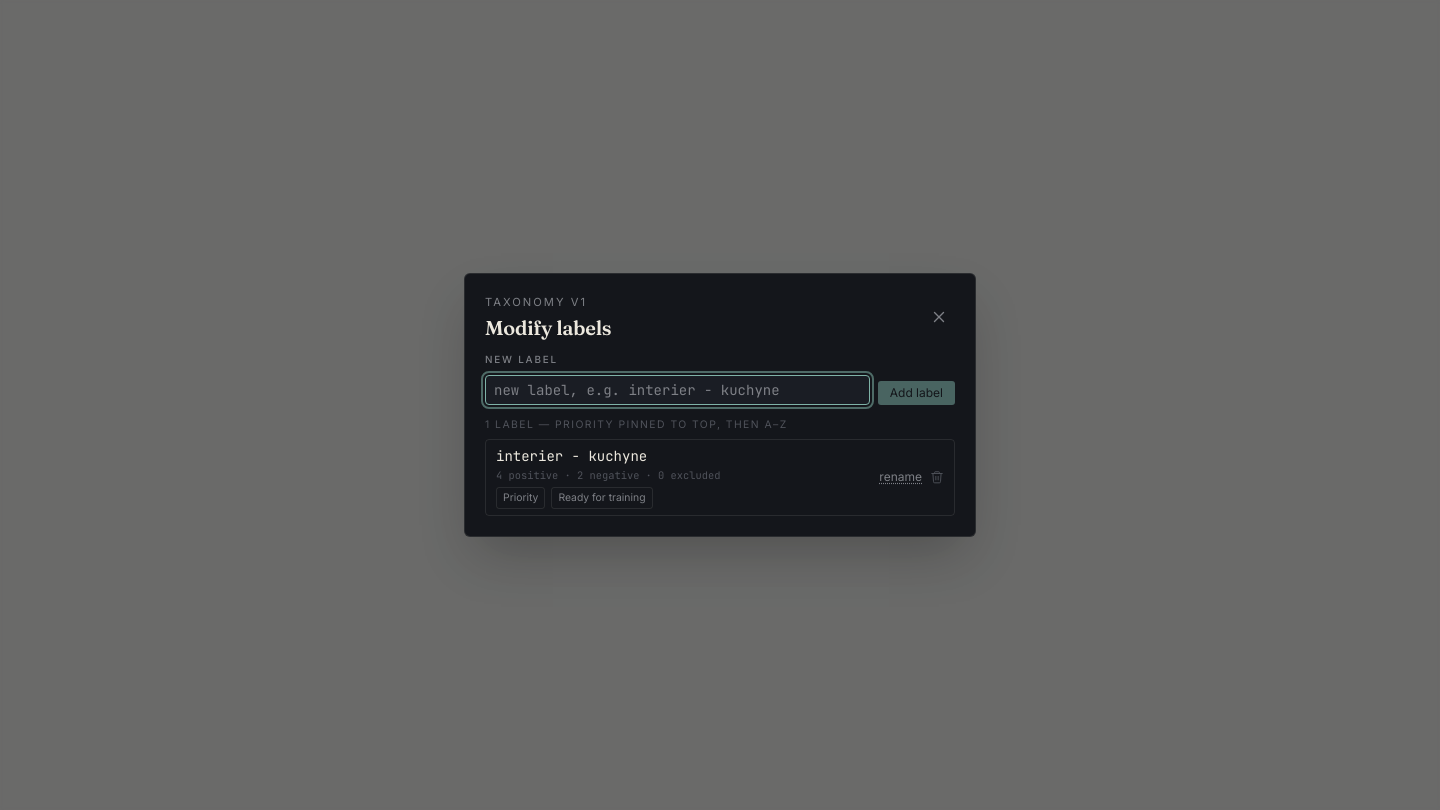
Test: <TaxonomyManageModal> › names the inline rename field, which replaces the row label it would be named by
The image size is (1440, 810).
Click the button "rename".
click(901, 477)  # box 879,469 -> 922,485
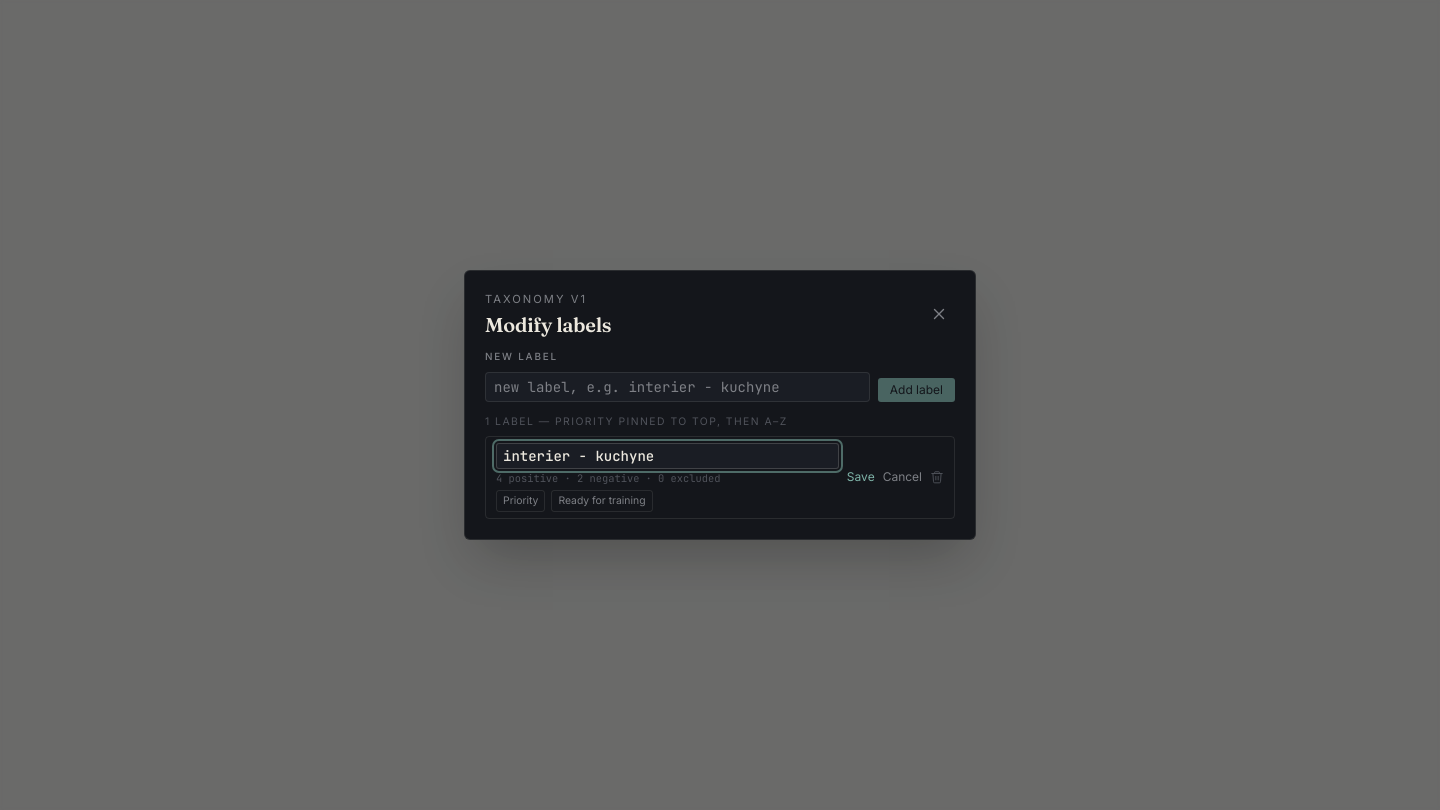
Now the field named "New tag label" holds "interier - kuchyne", box 496,442 -> 839,468
